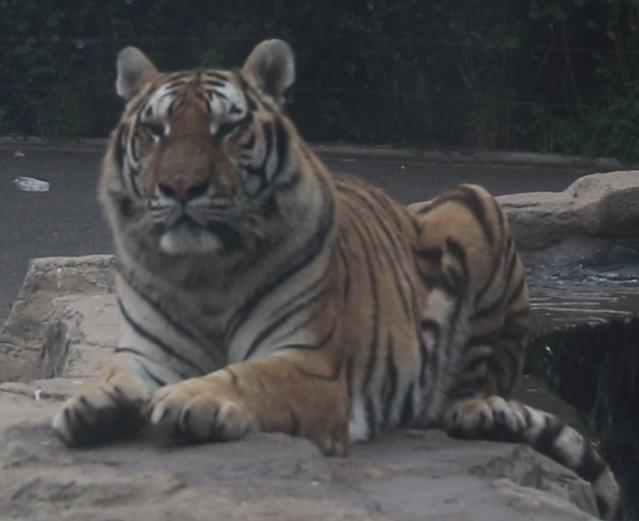tiger: (54, 39, 616, 511)
